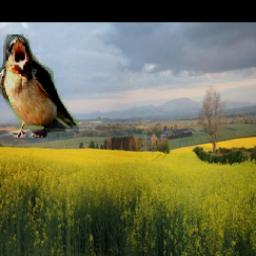Swallow: (0, 34, 78, 138)
